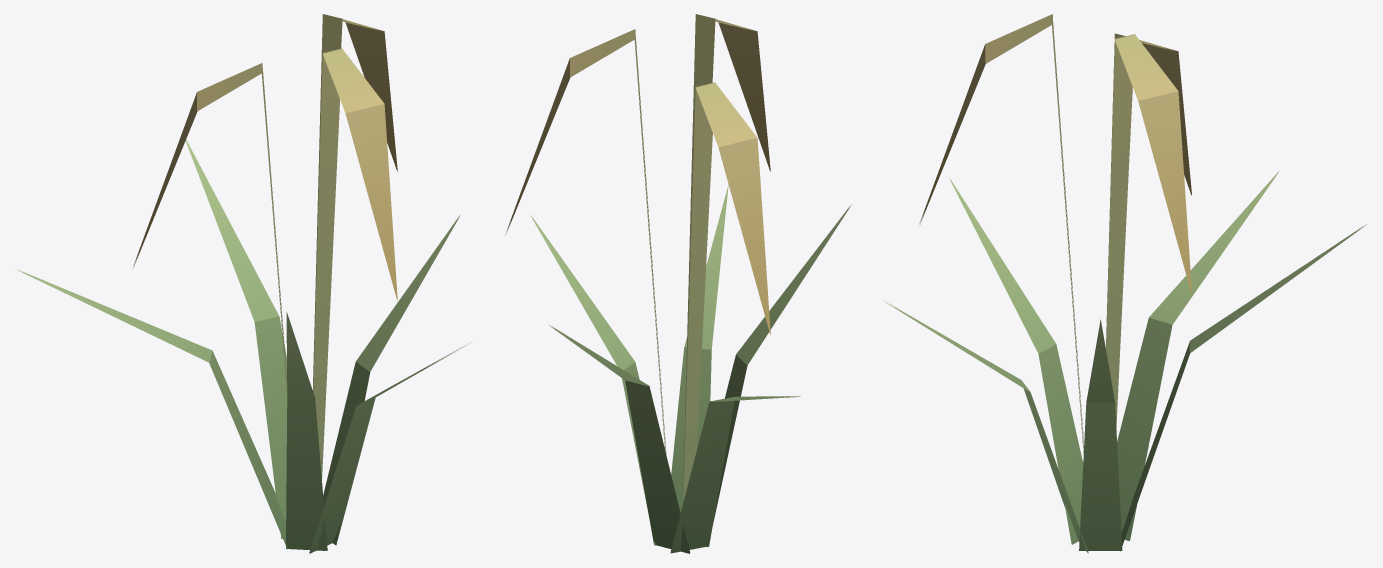
File: rice.glb
3 renders of one model, left to right at view 1: azimuth 30°, elevation 25°; view 2: azimuth 150°, elevation 25°; view 3: azimuth 270°, elevation 25°, orthographic. The views are drawn at different scales.
Visible parts, largest first — view 1: Static; view 2: Static; view 3: Static.
Part boxes in pixels (bbox=[...]): Static: bbox=[17, 14, 471, 553]; Static: bbox=[505, 14, 851, 553]; Static: bbox=[883, 14, 1366, 553].
Size of the model in its own units: 0.445 by 0.6003 by 0.5067.
